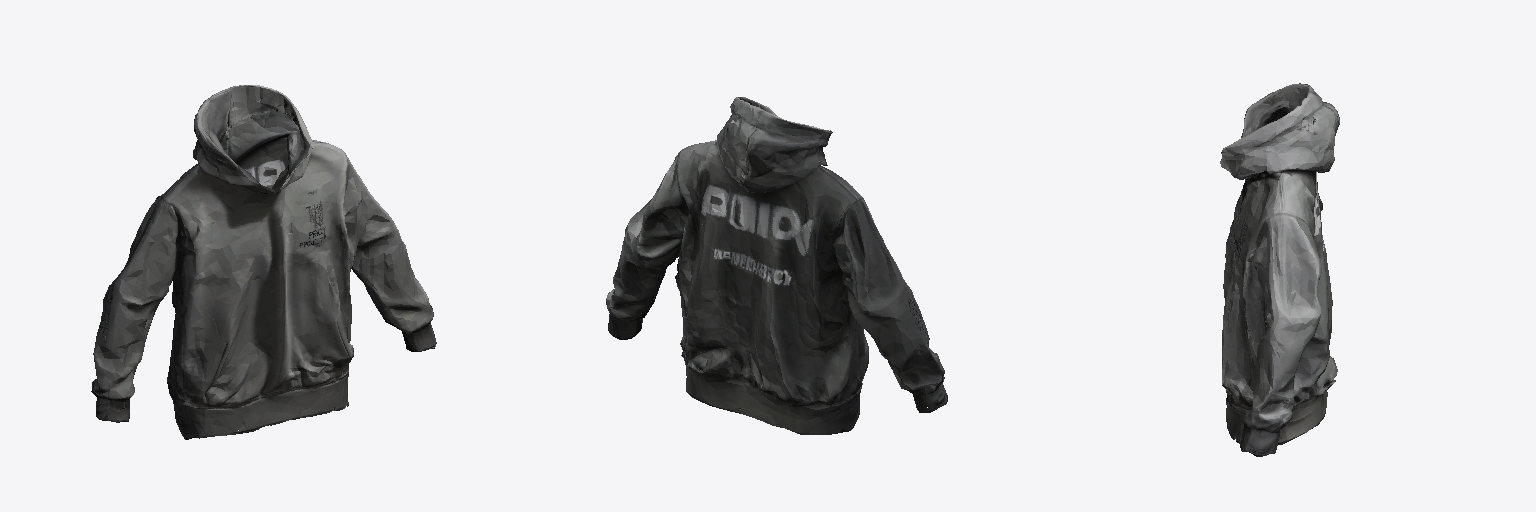
The picture shows the model from 3 angles: view 1: azimuth 30°, elevation 25°; view 2: azimuth 150°, elevation 25°; view 3: azimuth 270°, elevation 25°; orthographic projection.
Visible parts, largest first — view 1: A_high_fashion_techwe_[number redacted]_texture; view 2: A_high_fashion_techwe_[number redacted]_texture; view 3: A_high_fashion_techwe_[number redacted]_texture.
Part boxes in pixels (x1,y1,x2,y2): A_high_fashion_techwe_[number redacted]_texture: (91, 85, 436, 439); A_high_fashion_techwe_[number redacted]_texture: (606, 97, 947, 434); A_high_fashion_techwe_[number redacted]_texture: (1220, 83, 1339, 456).
Size of the model in its own units: 2 by 1.82 by 0.6205.
Materials: 1 (1 with a texture image).